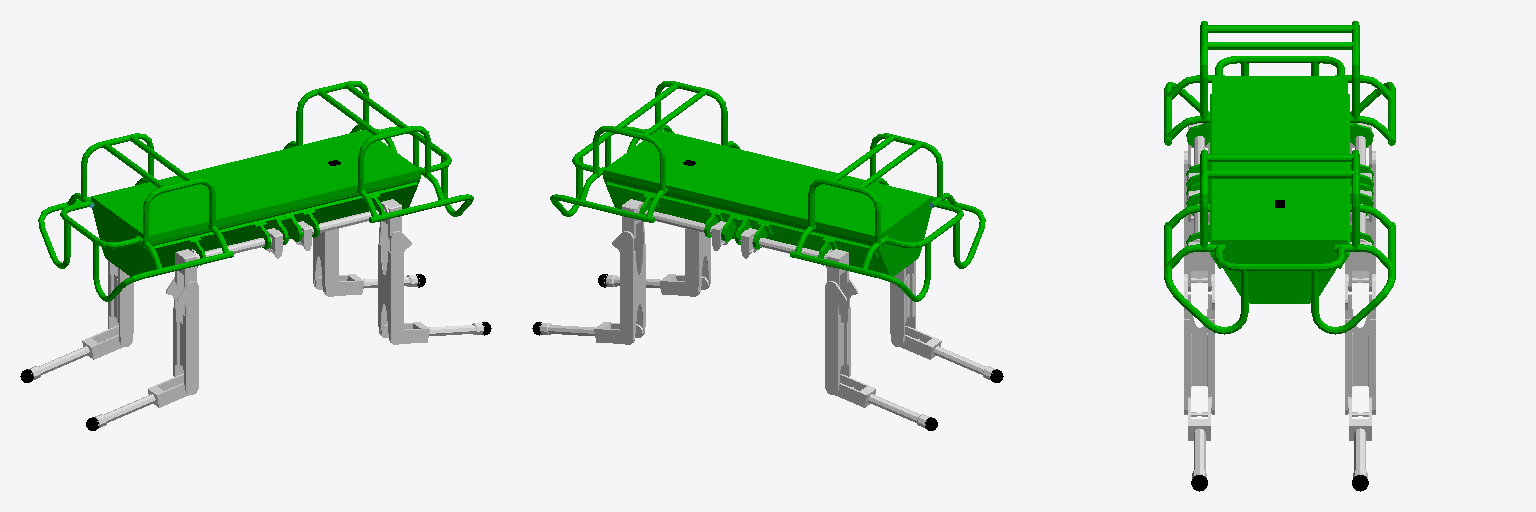
--- Facts derived from the render (not from the file) ---
Views: 3 orthographic renders of the robot side by side, from view 1: azimuth 30°, elevation 25°; view 2: azimuth 150°, elevation 25°; view 3: azimuth 270°, elevation 25°.
Robot: hyq — 19 links, 18 joints (12 revolute, 6 fixed); root link base_link; default pose: all joints at 0 but 4 set to mid-range because 0 is outside their limits (lf_kfe_joint = -1.4, rf_kfe_joint = -1.4, lh_kfe_joint = 1.4, rh_kfe_joint = 1.4).
Links seen in each view (by area): view 1: trunk, rf_upperleg, rh_upperleg, lh_upperleg, lf_upperleg, rh_hipassembly, rh_lowerleg, lh_lowerleg, rf_hipassembly, rf_lowerleg, lf_lowerleg; view 2: trunk, lf_upperleg, lh_upperleg, rh_upperleg, rf_upperleg, lh_hipassembly, lh_lowerleg, rh_lowerleg, lf_hipassembly, lf_lowerleg, rf_lowerleg; view 3: trunk, lf_upperleg, rf_upperleg, lf_lowerleg, rf_lowerleg, lf_hipassembly, rf_hipassembly.
Boxes of the visible links, box(x1,y1,x2,y2) form: trunk: box(38, 81, 473, 301); rf_upperleg: box(378, 227, 411, 344); rh_upperleg: box(166, 277, 198, 394); lh_upperleg: box(108, 261, 133, 346); lf_upperleg: box(313, 229, 338, 296); rh_hipassembly: box(175, 228, 283, 287); rh_lowerleg: box(94, 374, 188, 428); lh_lowerleg: box(28, 326, 122, 379); rf_hipassembly: box(296, 199, 401, 250); rf_lowerleg: box(380, 322, 484, 343); lf_lowerleg: box(315, 274, 419, 295); trunk: box(550, 81, 985, 301); lf_upperleg: box(612, 227, 645, 344); lh_upperleg: box(825, 277, 857, 394); rh_upperleg: box(890, 261, 915, 346); rf_upperleg: box(685, 229, 710, 296); lh_hipassembly: box(740, 228, 848, 287); lh_lowerleg: box(835, 374, 929, 428); rh_lowerleg: box(901, 326, 995, 379); lf_hipassembly: box(622, 199, 727, 250); lf_lowerleg: box(539, 322, 643, 343); rf_lowerleg: box(604, 274, 708, 295); trunk: box(1164, 21, 1395, 334); lf_upperleg: box(1345, 274, 1375, 414); rf_upperleg: box(1184, 274, 1214, 414); lf_lowerleg: box(1348, 397, 1371, 478); rf_lowerleg: box(1188, 397, 1211, 478); lf_hipassembly: box(1348, 190, 1371, 291); rf_hipassembly: box(1188, 190, 1211, 291).
Bounding box of the posed robot: 1.47 × 0.5954 × 0.7818 m (x, y, z).
Meshes: 4 distinct files referenced, 13 mesh visuals loaded (4 Collada DAE).

The robot description file, URDF, robot "hyq":
<?xml version="1.0" ?>
<!-- =================================================================================== -->
<!-- |    This document was autogenerated by xacro from hyq_no_sensors.urdf.xacro      | -->
<!-- |    EDITING THIS FILE BY HAND IS NOT RECOMMENDED                                 | -->
<!-- =================================================================================== -->
<robot name="hyq" xmlns:xacro="http://ros.org/wiki/xacro">
  <!-- This argument allows us to load joint sensors that measure the internal wrenches -->
  <!-- The following included files set up definitions of parts of the robot body -->
  <!-- kin limits (sign ref is RH leg)-->
  <!-- torque limits 120-->
  <!-- standard distances -->
  <!-- Inertial values -->
  <!-- Trunk with hydraulic system -->
  <!-- Hip assembly -->
  <!-- Upper leg -->
  <!-- Lower leg -->
  <!-- TODO checks the imu properties -->
  <!-- Microstrain kvh1775 IMU -->
  <!-- Microstrain 3dmgx425 IMU -->
  <!-- Microstrain 3dmgx325 IMU -->
  <!-- PTU unit -->
  <!-- Asus Xtion Camera Location (Nominally 0) -->
  <!-- Kinect Camera Location (Nominally 0) -->
  <!-- Bumblebee mass and lengths for computing inertia tensor -->
  <!-- Velodyne Lidar Location (Nominally 0) -->
  <!-- HighDef Camera Location (Nominally 0) -->
  <!-- HyQ trunk -->
  <!-- Things that are needed only for Gazebo (not the physical robot). These include sensor and controller plugin specifications -->
  <!-- ================================ Trunk ================================ -->
  <!-- The xacro macro xacro:hyq_base contains: base and trunk -->
  <!-- HyQ legs -->
  <!-- Things that are needed only for Gazebo (not the physical robot). These include sensor and controller plugin specifications -->
  <!-- ================================== Leg ================================== -->
  <!-- The xacro macro xacro:hyq_leg contains: hip assembly, upper and lower leg -->
  <!-- HyQ sensors -->
  <!-- ============================ IMU microstrain ============================== -->
  <!-- The xacro macro xacro:microstrain_3dmgx425_imu: imu frame -->
  <!-- generic simulator_gazebo plugins for starting mechanism control, ros time -->
  <gazebo>
    <plugin filename="libgazebo_ros_control.so" name="gazebo_ros_controller_manager">
      <robotNamespace>/hyq</robotNamespace>
      <!--			<robotSimType>dls_gazebo_interface/DLSHWSim</robotSimType>-->
      <controlPeriod>0.004</controlPeriod>
    </plugin>
    <plugin filename="libgazebo_ros_p3d.so" name="gazebo_ros_p3d">
      <robotNamespace>/hyq</robotNamespace>
      <bodyName>trunk</bodyName>
      <topicName>ground_truth</topicName>
      <frameName>world</frameName>
      <xyzOffsets>0 0 0</xyzOffsets>
      <rpyOffsets>0 0 0</rpyOffsets>
      <gaussianNoise>0</gaussianNoise>
      <alwaysOn>true</alwaysOn>
      <updateRate>250.0</updateRate>
    </plugin>
  </gazebo>
  <!-- Now we can start using the macros included above to define the actual HyQ -->
  <!-- The first use of a macro. This one was defined in trunk.urdf.xacro above.
A macro like this will expand to a set of link and joint definitions, and to additional
Gazebo-related extensions (sensor plugins, etc). The macro takes an argument, name,
that equals "base", and uses it to generate names for its component links and joints
(e.g., base_link). The included origin block is also an argument to the macro. By convention,
the origin block defines where the component is w.r.t its parent (in this case the parent
is the world frame). For more, see http://ros.org/wiki/xacro -->
  <!-- body -->
  <!-- trunk -->
  <!-- Floating-base Joint -->
  <joint name="floating_base" type="fixed">
    <origin rpy="0 0 0" xyz="0 0 0"/>
    <parent link="base_link"/>
    <child link="trunk"/>
  </joint>
  <!-- Links -->
  <!-- Footprint link -->
  <link name="base_link">
    <visual>
      <geometry>
        <cylinder length="0.01" radius="0.01"/>
      </geometry>
    </visual>
  </link>
  <!-- Trunk link -->
  <link name="trunk">
    <inertial>
      <origin xyz="0.056 0.0215 0.00358"/>
      <mass value="60.96"/>
      <inertia ixx="1.5725937" ixy="0.028375" ixz="-0.203139" iyy="8.5015928" iyz="-0.004462" izz="9.1954911"/>
    </inertial>
    <visual>
      <geometry>
        <mesh filename="package://hyq/meshes/trunk/trunk.dae" scale="1 1 1"/>
      </geometry>
    </visual>
    <collision>
      <geometry>
        <mesh filename="package://hyq/meshes/trunk/trunk.dae" scale="1 1 1"/>
      </geometry>
    </collision>
  </link>
  <!-- Extensions -->
  <gazebo reference="trunk">
    <mu1>1.5</mu1>
    <mu2>1.5</mu2>
  </gazebo>
  <!-- LF leg -->
  <!-- Joints -->
  <!-- Hip assembly joint -->
  <joint name="lf_haa_joint" type="revolute">
    <origin rpy="0 1.57079632679 3.14159265359" xyz="0.3735 0.207 0"/>
    <parent link="trunk"/>
    <child link="lf_hipassembly"/>
    <axis xyz="0 0 1"/>
    <limit effort="150" lower="-1.2217304764" upper="0.436332312999" velocity="12.0"/>
    <dynamics damping="0.1" friction="0"/>
    <safety_controller k_position="50" k_velocity="10" soft_lower_limit="-1.2217304764" soft_upper_limit="0.436332312999"/>
  </joint>
  <!-- Upper leg joint -->
  <joint name="lf_hfe_joint" type="revolute">
    <origin rpy="1.57079632679 0 0" xyz="0.08 0 0"/>
    <parent link="lf_hipassembly"/>
    <child link="lf_upperleg"/>
    <axis xyz="0 0 1"/>
    <limit effort="150" lower="-0.872664625997" upper="1.2217304764" velocity="12.0"/>
    <dynamics damping="0.1" friction="0"/>
    <safety_controller k_position="50" k_velocity="10" soft_lower_limit="-0.872664625997" soft_upper_limit="1.2217304764"/>
  </joint>
  <!-- Lower leg joint -->
  <joint name="lf_kfe_joint" type="revolute">
    <origin rpy="0 0 0" xyz="0.35 0 0"/>
    <parent link="lf_upperleg"/>
    <child link="lf_lowerleg"/>
    <axis xyz="0 0 1"/>
    <limit effort="150" lower="-2.44346095279" upper="-0.349065850399" velocity="12.0"/>
    <dynamics damping="0.1" friction="0"/>
    <safety_controller k_position="50" k_velocity="10" soft_lower_limit="-2.44346095279" soft_upper_limit="-0.349065850399"/>
    <!-- Foot joint -->
  </joint>
  <joint name="lf_foot_joint" type="fixed">
    <origin rpy="1.57079632679 0 -1.57079632679" xyz="0.346 0 0"/>
    <parent link="lf_lowerleg"/>
    <child link="lf_foot"/>
  </joint>
  <!-- Links -->
  <!-- Hip assembly link -->
  <link name="lf_hipassembly">
    <inertial>
      <origin xyz="0.04263         0.0         0.16931"/>
      <mass value="2.93"/>
      <inertia ixx="0.05071" ixy="-4e-05" ixz="-0.00159" iyy="0.05486" iyz="-5e-05" izz="0.00571"/>
    </inertial>
    <visual>
      <origin rpy="0.0 0 0" xyz="0 0 0"/>
      <geometry>
        <mesh filename="package://hyq/meshes/leg/hipassembly.dae" scale="1 1 1"/>
      </geometry>
    </visual>
    <collision>
      <origin rpy="0.0 0 0" xyz="0 0 0"/>
      <geometry>
        <mesh filename="package://hyq/meshes/leg/hipassembly.dae" scale="1 1 1"/>
      </geometry>
    </collision>
  </link>
  <!-- Upper leg link -->
  <link name="lf_upperleg">
    <inertial>
      <origin xyz="0.15074 -0.02625 0.0"/>
      <mass value="2.638"/>
      <inertia ixx="0.00368" ixy="-0.00302" ixz="0.0001" iyy="0.02719" iyz="2e-05" izz="0.02811"/>
    </inertial>
    <visual>
      <origin rpy="0.0 0 0" xyz="0 0 0"/>
      <geometry>
        <mesh filename="package://hyq/meshes/leg/upperleg.dae" scale="1 1 1"/>
      </geometry>
    </visual>
    <collision>
      <origin rpy="0.0 0 0" xyz="0 0 0"/>
      <geometry>
        <mesh filename="package://hyq/meshes/leg/upperleg.dae" scale="1 1 1"/>
      </geometry>
    </collision>
  </link>
  <!-- Lower leg link -->
  <link name="lf_lowerleg">
    <inertial>
      <origin xyz="0.1254 4e-05 -0.0001"/>
      <mass value="0.881"/>
      <inertia ixx="0.00047" ixy="6e-05" ixz="-1e-05" iyy="0.01256" iyz="-0.0" izz="0.01233"/>
    </inertial>
    <visual>
      <geometry>
        <mesh filename="package://hyq/meshes/leg/lowerleg.dae" scale="1 1 1"/>
      </geometry>
      <material name="white"/>
    </visual>
    <collision>
      <origin rpy="0 -1.57079632679  0" xyz="0.173 0 0"/>
      <geometry>
        <cylinder length="0.346" radius="0.02"/>
      </geometry>
    </collision>
  </link>
  <!-- Foot link -->
  <link name="lf_foot">
    <collision>
      <origin rpy="0 0 0" xyz="0 0 0"/>
      <geometry>
        <sphere radius="0.02175"/>
      </geometry>
    </collision>
    <visual>
      <geometry>
        <sphere radius="0.02175"/>
      </geometry>
      <material name="black"/>
    </visual>
  </link>
  <!-- Extensions -->
  <!-- Hip assembly -->
  <transmission name="lf_haa_trans">
    <type>transmission_interface/SimpleTransmission</type>
    <joint name="lf_haa_joint">
      <hardwareInterface>EffortJointInterface</hardwareInterface>
    </joint>
    <actuator name="lf_haa_motor">
      <hardwareInterface>EffortJointInterface</hardwareInterface>
      <mechanicalReduction>1</mechanicalReduction>
    </actuator>
  </transmission>
  <!-- Upper leg -->
  <transmission name="lf_hfe_trans">
    <type>transmission_interface/SimpleTransmission</type>
    <joint name="lf_hfe_joint">
      <hardwareInterface>EffortJointInterface</hardwareInterface>
    </joint>
    <actuator name="lf_hfe_motor">
      <hardwareInterface>EffortJointInterface</hardwareInterface>
      <mechanicalReduction>1</mechanicalReduction>
    </actuator>
  </transmission>
  <!-- Lower leg -->
  <transmission name="lf_kfe_trans">
    <type>transmission_interface/SimpleTransmission</type>
    <joint name="lf_kfe_joint">
      <hardwareInterface>EffortJointInterface</hardwareInterface>
    </joint>
    <actuator name="lf_kfe_motor">
      <hardwareInterface>EffortJointInterface</hardwareInterface>
      <mechanicalReduction>1</mechanicalReduction>
    </actuator>
  </transmission>
  <gazebo reference="lf_haa_joint">
    <provideFeedback>true</provideFeedback>
  </gazebo>
  <gazebo reference="lf_kfe_joint">
    <provideFeedback>true</provideFeedback>
  </gazebo>
  <gazebo reference="lf_hfe_joint">
    <provideFeedback>true</provideFeedback>
  </gazebo>
  <gazebo reference="lf_upperleg">
    <kp>1000000.0</kp>
    <kd>100.0</kd>
    <mu1>1.5</mu1>
    <mu2>1.5</mu2>
    <fdir1>1 0 0</fdir1>
    <maxVel>1.0</maxVel>
    <minDepth>0.00</minDepth>
  </gazebo>
  <gazebo reference="lf_lowerleg">
    <kp>1000000.0</kp>
    <kd>100.0</kd>
    <mu1>1.0</mu1>
    <mu2>1.0</mu2>
    <maxVel>1.0</maxVel>
    <maxContacts>1</maxContacts>
    <sensor name="lf_shin_contact_sensor" type="contact">
      <always_on>true</always_on>
      <update_rate>250.0</update_rate>
      <contact>
        <collision>lf_lowerleg_collision</collision>
      </contact>
      <plugin filename="libgazebo_ros_bumper.so" name="lf_shin_bumper">
        <bumperTopicName>/hyq/lf_shin_bumper</bumperTopicName>
        <frameName>base_link</frameName>
      </plugin>
    </sensor>
  </gazebo>
  <gazebo reference="lf_foot">
    <kp>1000000.0</kp>
    <kd>100.0</kd>
    <mu1>1.0</mu1>
    <mu2>1.0</mu2>
    <maxVel>1.0</maxVel>
    <maxContacts>1</maxContacts>
    <sensor name="lf_foot_contact_sensor" type="contact">
      <always_on>true</always_on>
      <update_rate>250.0</update_rate>
      <contact>
        <collision>lf_lowerleg_fixed_joint_lump__lf_foot_collision_1</collision>
      </contact>
      <plugin filename="libgazebo_ros_bumper.so" name="lf_foot_bumper">
        <bumperTopicName>/hyq/lf_foot_bumper</bumperTopicName>
        <frameName>base_link</frameName>
        <robotNamespace>hyq</robotNamespace>
      </plugin>
    </sensor>
    <material>Gazebo/Black</material>
  </gazebo>
  <!-- RF leg -->
  <!-- Joints -->
  <!-- Hip assembly joint -->
  <joint name="rf_haa_joint" type="revolute">
    <origin rpy="0 1.57079632679 0" xyz="0.3735 -0.207 0"/>
    <parent link="trunk"/>
    <child link="rf_hipassembly"/>
    <axis xyz="0 0 1"/>
    <limit effort="150" lower="-1.2217304764" upper="0.436332312999" velocity="12.0"/>
    <dynamics damping="0.1" friction="0"/>
    <safety_controller k_position="50" k_velocity="10" soft_lower_limit="-1.2217304764" soft_upper_limit="0.436332312999"/>
  </joint>
  <!-- Upper leg joint -->
  <joint name="rf_hfe_joint" type="revolute">
    <origin rpy="-1.57079632679 0 0" xyz="0.08 0 0"/>
    <parent link="rf_hipassembly"/>
    <child link="rf_upperleg"/>
    <axis xyz="0 0 1"/>
    <limit effort="150" lower="-0.872664625997" upper="1.2217304764" velocity="12.0"/>
    <dynamics damping="0.1" friction="0"/>
    <safety_controller k_position="50" k_velocity="10" soft_lower_limit="-0.872664625997" soft_upper_limit="1.2217304764"/>
  </joint>
  <!-- Lower leg joint -->
  <joint name="rf_kfe_joint" type="revolute">
    <origin rpy="0 0 0" xyz="0.35 0 0"/>
    <parent link="rf_upperleg"/>
    <child link="rf_lowerleg"/>
    <axis xyz="0 0 1"/>
    <limit effort="150" lower="-2.44346095279" upper="-0.349065850399" velocity="12.0"/>
    <dynamics damping="0.1" friction="0"/>
    <safety_controller k_position="50" k_velocity="10" soft_lower_limit="-2.44346095279" soft_upper_limit="-0.349065850399"/>
    <!-- Foot joint -->
  </joint>
  <joint name="rf_foot_joint" type="fixed">
    <origin rpy="1.57079632679 0 -1.57079632679" xyz="0.346 0 0"/>
    <parent link="rf_lowerleg"/>
    <child link="rf_foot"/>
  </joint>
  <!-- Links -->
  <!-- Hip assembly link -->
  <link name="rf_hipassembly">
    <inertial>
      <origin xyz="0.04263         -0.0         -0.16931"/>
      <mass value="2.93"/>
      <inertia ixx="0.05071" ixy="4e-05" ixz="0.00159" iyy="0.05486" iyz="-5e-05" izz="0.00571"/>
    </inertial>
    <visual>
      <origin rpy="3.14159265359 0 0" xyz="0 0 0"/>
      <geometry>
        <mesh filename="package://hyq/meshes/leg/hipassembly.dae" scale="1 1 1"/>
      </geometry>
    </visual>
    <collision>
      <origin rpy="3.14159265359 0 0" xyz="0 0 0"/>
      <geometry>
        <mesh filename="package://hyq/meshes/leg/hipassembly.dae" scale="1 1 1"/>
      </geometry>
    </collision>
  </link>
  <!-- Upper leg link -->
  <link name="rf_upperleg">
    <inertial>
      <origin xyz="0.15074 -0.02625 0.0"/>
      <mass value="2.638"/>
      <inertia ixx="0.00368" ixy="-0.00302" ixz="0.0001" iyy="0.02719" iyz="2e-05" izz="0.02811"/>
    </inertial>
    <visual>
      <origin rpy="0.0 0 0" xyz="0 0 0"/>
      <geometry>
        <mesh filename="package://hyq/meshes/leg/upperleg.dae" scale="1 1 1"/>
      </geometry>
    </visual>
    <collision>
      <origin rpy="0.0 0 0" xyz="0 0 0"/>
      <geometry>
        <mesh filename="package://hyq/meshes/leg/upperleg.dae" scale="1 1 1"/>
      </geometry>
    </collision>
  </link>
  <!-- Lower leg link -->
  <link name="rf_lowerleg">
    <inertial>
      <origin xyz="0.1254 4e-05 -0.0001"/>
      <mass value="0.881"/>
      <inertia ixx="0.00047" ixy="6e-05" ixz="-1e-05" iyy="0.01256" iyz="-0.0" izz="0.01233"/>
    </inertial>
    <visual>
      <geometry>
        <mesh filename="package://hyq/meshes/leg/lowerleg.dae" scale="1 1 1"/>
      </geometry>
      <material name="white"/>
    </visual>
    <collision>
      <origin rpy="0 -1.57079632679  0" xyz="0.173 0 0"/>
      <geometry>
        <cylinder length="0.346" radius="0.02"/>
      </geometry>
    </collision>
  </link>
  <!-- Foot link -->
  <link name="rf_foot">
    <collision>
      <origin rpy="0 0 0" xyz="0 0 0"/>
      <geometry>
        <sphere radius="0.02175"/>
      </geometry>
    </collision>
    <visual>
      <geometry>
        <sphere radius="0.02175"/>
      </geometry>
      <material name="black"/>
    </visual>
  </link>
  <!-- Extensions -->
  <!-- Hip assembly -->
  <transmission name="rf_haa_trans">
    <type>transmission_interface/SimpleTransmission</type>
    <joint name="rf_haa_joint">
      <hardwareInterface>EffortJointInterface</hardwareInterface>
    </joint>
    <actuator name="rf_haa_motor">
      <hardwareInterface>EffortJointInterface</hardwareInterface>
      <mechanicalReduction>1</mechanicalReduction>
    </actuator>
  </transmission>
  <!-- Upper leg -->
  <transmission name="rf_hfe_trans">
    <type>transmission_interface/SimpleTransmission</type>
    <joint name="rf_hfe_joint">
      <hardwareInterface>EffortJointInterface</hardwareInterface>
    </joint>
    <actuator name="rf_hfe_motor">
      <hardwareInterface>EffortJointInterface</hardwareInterface>
      <mechanicalReduction>1</mechanicalReduction>
    </actuator>
  </transmission>
  <!-- Lower leg -->
  <transmission name="rf_kfe_trans">
    <type>transmission_interface/SimpleTransmission</type>
    <joint name="rf_kfe_joint">
      <hardwareInterface>EffortJointInterface</hardwareInterface>
    </joint>
    <actuator name="rf_kfe_motor">
      <hardwareInterface>EffortJointInterface</hardwareInterface>
      <mechanicalReduction>1</mechanicalReduction>
    </actuator>
  </transmission>
  <gazebo reference="rf_haa_joint">
    <provideFeedback>true</provideFeedback>
  </gazebo>
  <gazebo reference="rf_kfe_joint">
    <provideFeedback>true</provideFeedback>
  </gazebo>
  <gazebo reference="rf_hfe_joint">
    <provideFeedback>true</provideFeedback>
  </gazebo>
  <gazebo reference="rf_upperleg">
    <kp>1000000.0</kp>
    <kd>100.0</kd>
    <mu1>1.5</mu1>
    <mu2>1.5</mu2>
    <fdir1>1 0 0</fdir1>
    <maxVel>1.0</maxVel>
    <minDepth>0.00</minDepth>
  </gazebo>
  <gazebo reference="rf_lowerleg">
    <kp>1000000.0</kp>
    <kd>100.0</kd>
    <mu1>1.0</mu1>
    <mu2>1.0</mu2>
    <maxVel>1.0</maxVel>
    <maxContacts>1</maxContacts>
    <sensor name="rf_shin_contact_sensor" type="contact">
      <always_on>true</always_on>
      <update_rate>250.0</update_rate>
      <contact>
        <collision>rf_lowerleg_collision</collision>
      </contact>
      <plugin filename="libgazebo_ros_bumper.so" name="rf_shin_bumper">
        <bumperTopicName>/hyq/rf_shin_bumper</bumperTopicName>
        <frameName>base_link</frameName>
      </plugin>
    </sensor>
  </gazebo>
  <gazebo reference="rf_foot">
    <kp>1000000.0</kp>
    <kd>100.0</kd>
    <mu1>1.0</mu1>
    <mu2>1.0</mu2>
    <maxVel>1.0</maxVel>
    <maxContacts>1</maxContacts>
    <sensor name="rf_foot_contact_sensor" type="contact">
      <always_on>true</always_on>
      <update_rate>250.0</update_rate>
      <contact>
        <collision>rf_lowerleg_fixed_joint_lump__rf_foot_collision_1</collision>
      </contact>
      <plugin filename="libgazebo_ros_bumper.so" name="rf_foot_bumper">
        <bumperTopicName>/hyq/rf_foot_bumper</bumperTopicName>
        <frameName>base_link</frameName>
        <robotNamespace>hyq</robotNamespace>
      </plugin>
    </sensor>
    <material>Gazebo/Black</material>
  </gazebo>
  <!-- LH leg -->
  <!-- Joints -->
  <!-- Hip assembly joint -->
  <joint name="lh_haa_joint" type="revolute">
    <origin rpy="0 1.57079632679 3.14159265359" xyz="-0.3735 0.207 0"/>
    <parent link="trunk"/>
    <child link="lh_hipassembly"/>
    <axis xyz="0 0 1"/>
    <limit effort="150" lower="-1.2217304764" upper="0.436332312999" velocity="12.0"/>
    <dynamics damping="0.1" friction="0"/>
    <safety_controller k_position="50" k_velocity="10" soft_lower_limit="-1.2217304764" soft_upper_limit="0.436332312999"/>
  </joint>
  <!-- Upper leg joint -->
  <joint name="lh_hfe_joint" type="revolute">
    <origin rpy="1.57079632679 0 0" xyz="0.08 0 0"/>
    <parent link="lh_hipassembly"/>
    <child link="lh_upperleg"/>
    <axis xyz="0 0 1"/>
    <limit effort="150" lower="-1.2217304764" upper="0.872664625997" velocity="12.0"/>
    <dynamics damping="0.1" friction="0"/>
    <safety_controller k_position="50" k_velocity="10" soft_lower_limit="-1.2217304764" soft_upper_limit="0.872664625997"/>
  </joint>
  <!-- Lower leg joint -->
  <joint name="lh_kfe_joint" type="revolute">
    <origin rpy="0 0 0" xyz="0.35 0 0"/>
    <parent link="lh_upperleg"/>
    <child link="lh_lowerleg"/>
    <axis xyz="0 0 1"/>
    <limit effort="150" lower="0.349065850399" upper="2.44346095279" velocity="12.0"/>
    <dynamics damping="0.1" friction="0"/>
    <safety_controller k_position="50" k_velocity="10" soft_lower_limit="0.349065850399" soft_upper_limit="2.44346095279"/>
    <!-- Foot joint -->
  </joint>
  <joint name="lh_foot_joint" type="fixed">
    <origin rpy="1.57079632679 0 -1.57079632679" xyz="0.346 0 0"/>
    <parent link="lh_lowerleg"/>
    <child link="lh_foot"/>
  </joint>
  <!-- Links -->
  <!-- Hip assembly link -->
  <link name="lh_hipassembly">
    <inertial>
      <origin xyz="0.04263         -0.0         -0.16931"/>
      <mass value="2.93"/>
      <inertia ixx="0.05071" ixy="4e-05" ixz="0.00159" iyy="0.05486" iyz="-5e-05" izz="0.00571"/>
    </inertial>
    <visual>
      <origin rpy="3.14159265359 0 0" xyz="0 0 0"/>
      <geometry>
        <mesh filename="package://hyq/meshes/leg/hipassembly.dae" scale="1 1 1"/>
      </geometry>
    </visual>
    <collision>
      <origin rpy="3.14159265359 0 0" xyz="0 0 0"/>
      <geometry>
        <mesh filename="package://hyq/meshes/leg/hipassembly.dae" scale="1 1 1"/>
      </geometry>
    </collision>
  </link>
  <!-- Upper leg link -->
  <link name="lh_upperleg">
    <inertial>
      <origin xyz="0.15074 0.02625 0.0"/>
      <mass value="2.638"/>
      <inertia ixx="0.00368" ixy="0.00302" ixz="-0.0001" iyy="0.02719" iyz="2e-05" izz="0.02811"/>
    </inertial>
    <visual>
      <origin rpy="3.14159265359 0 0" xyz="0 0 0"/>
      <geometry>
        <mesh filename="package://hyq/meshes/leg/upperleg.dae" scale="1 1 1"/>
      </geometry>
    </visual>
    <collision>
      <origin rpy="3.14159265359 0 0" xyz="0 0 0"/>
      <geometry>
        <mesh filename="package://hyq/meshes/leg/upperleg.dae" scale="1 1 1"/>
      </geometry>
    </collision>
  </link>
  <!-- Lower leg link -->
  <link name="lh_lowerleg">
    <inertial>
      <origin xyz="0.1254 -4e-05 0.0001"/>
      <mass value="0.881"/>
      <inertia ixx="0.00047" ixy="-6e-05" ixz="1e-05" iyy="0.01256" iyz="-0.0" izz="0.01233"/>
    </inertial>
    <visual>
      <geometry>
        <mesh filename="package://hyq/meshes/leg/lowerleg.dae" scale="1 1 1"/>
      </geometry>
      <material name="white"/>
    </visual>
    <collision>
      <origin rpy="0 -1.57079632679  0" xyz="0.173 0 0"/>
      <geometry>
        <cylinder length="0.346" radius="0.02"/>
      </geometry>
    </collision>
  </link>
  <!-- Foot link -->
  <link name="lh_foot">
    <collision>
      <origin rpy="0 0 0" xyz="0 0 0"/>
      <geometry>
        <sphere radius="0.02175"/>
      </geometry>
    </collision>
    <visual>
      <geometry>
        <sphere radius="0.02175"/>
      </geometry>
      <material name="black"/>
    </visual>
  </link>
  <!-- Extensions -->
  <!-- Hip assembly -->
  <transmission name="lh_haa_trans">
    <type>transmission_interface/SimpleTransmission</type>
    <joint name="lh_haa_joint">
      <hardwareInterface>EffortJointInterface</hardwareInterface>
    </joint>
    <actuator name="lh_haa_motor">
      <hardwareInterface>EffortJointInterface</hardwareInterface>
      <mechanicalReduction>1</mechanicalReduction>
    </actuator>
  </transmission>
  <!-- Upper leg -->
  <transmission name="lh_hfe_trans">
    <type>transmission_interface/SimpleTransmission</type>
    <joint name="lh_hfe_joint">
      <hardwareInterface>EffortJointInterface</hardwareInterface>
    </joint>
    <actuator name="lh_hfe_motor">
      <hardwareInterface>EffortJointInterface</hardwareInterface>
      <mechanicalReduction>1</mechanicalReduction>
    </actuator>
  </transmission>
  <!-- Lower leg -->
  <transmission name="lh_kfe_trans">
    <type>transmission_interface/SimpleTransmission</type>
    <joint name="lh_kfe_joint">
      <hardwareInterface>EffortJointInterface</hardwareInterface>
    </joint>
    <actuator name="lh_kfe_motor">
      <hardwareInterface>EffortJointInterface</hardwareInterface>
      <mechanicalReduction>1</mechanicalReduction>
    </actuator>
  </transmission>
  <gazebo reference="lh_haa_joint">
    <provideFeedback>true</provideFeedback>
  </gazebo>
  <gazebo reference="lh_kfe_joint">
    <provideFeedback>true</provideFeedback>
  </gazebo>
  <gazebo reference="lh_hfe_joint">
    <provideFeedback>true</provideFeedback>
  </gazebo>
  <gazebo reference="lh_upperleg">
    <kp>1000000.0</kp>
    <kd>100.0</kd>
    <mu1>1.5</mu1>
    <mu2>1.5</mu2>
    <fdir1>1 0 0</fdir1>
    <maxVel>1.0</maxVel>
    <minDepth>0.00</minDepth>
  </gazebo>
  <gazebo reference="lh_lowerleg">
    <kp>1000000.0</kp>
    <kd>100.0</kd>
    <mu1>1.0</mu1>
    <mu2>1.0</mu2>
    <maxVel>1.0</maxVel>
    <maxContacts>1</maxContacts>
    <sensor name="lh_shin_contact_sensor" type="contact">
      <always_on>true</always_on>
      <update_rate>250.0</update_rate>
      <contact>
        <collision>lh_lowerleg_collision</collision>
      </contact>
      <plugin filename="libgazebo_ros_bumper.so" name="lh_shin_bumper">
        <bumperTopicName>/hyq/lh_shin_bumper</bumperTopicName>
        <frameName>base_link</frameName>
      </plugin>
    </sensor>
  </gazebo>
  <gazebo reference="lh_foot">
    <kp>1000000.0</kp>
    <kd>100.0</kd>
    <mu1>1.0</mu1>
    <mu2>1.0</mu2>
    <maxVel>1.0</maxVel>
    <maxContacts>1</maxContacts>
    <sensor name="lh_foot_contact_sensor" type="contact">
      <always_on>true</always_on>
      <update_rate>250.0</update_rate>
      <contact>
        <collision>lh_lowerleg_fixed_joint_lump__lh_foot_collision_1</collision>
      </contact>
      <plugin filename="libgazebo_ros_bumper.so" name="lh_foot_bumper">
        <bumperTopicName>/hyq/lh_foot_bumper</bumperTopicName>
        <frameName>base_link</frameName>
        <robotNamespace>hyq</robotNamespace>
      </plugin>
    </sensor>
    <material>Gazebo/Black</material>
  </gazebo>
  <!-- RH leg -->
  <!-- Joints -->
  <!-- Hip assembly joint -->
  <joint name="rh_haa_joint" type="revolute">
    <origin rpy="0 1.57079632679 0" xyz="-0.3735 -0.207 0"/>
    <parent link="trunk"/>
    <child link="rh_hipassembly"/>
    <axis xyz="0 0 1"/>
    <limit effort="150" lower="-1.2217304764" upper="0.436332312999" velocity="12.0"/>
    <dynamics damping="0.1" friction="0"/>
    <safety_controller k_position="50" k_velocity="10" soft_lower_limit="-1.2217304764" soft_upper_limit="0.436332312999"/>
  </joint>
  <!-- Upper leg joint -->
  <joint name="rh_hfe_joint" type="revolute">
    <origin rpy="-1.57079632679 0 0" xyz="0.08 0 0"/>
    <parent link="rh_hipassembly"/>
    <child link="rh_upperleg"/>
    <axis xyz="0 0 1"/>
    <limit effort="150" lower="-1.2217304764" upper="0.872664625997" velocity="12.0"/>
    <dynamics damping="0.1" friction="0"/>
    <safety_controller k_position="50" k_velocity="10" soft_lower_limit="-1.2217304764" soft_upper_limit="0.872664625997"/>
  </joint>
  <!-- Lower leg joint -->
  <joint name="rh_kfe_joint" type="revolute">
    <origin rpy="0 0 0" xyz="0.35 0 0"/>
    <parent link="rh_upperleg"/>
    <child link="rh_lowerleg"/>
    <axis xyz="0 0 1"/>
    <limit effort="150" lower="0.349065850399" upper="2.44346095279" velocity="12.0"/>
    <dynamics damping="0.1" friction="0"/>
    <safety_controller k_position="50" k_velocity="10" soft_lower_limit="0.349065850399" soft_upper_limit="2.44346095279"/>
    <!-- Foot joint -->
  </joint>
  <joint name="rh_foot_joint" type="fixed">
    <origin rpy="1.57079632679 0 -1.57079632679" xyz="0.346 0 0"/>
    <parent link="rh_lowerleg"/>
    <child link="rh_foot"/>
  </joint>
  <!-- Links -->
  <!-- Hip assembly link -->
  <link name="rh_hipassembly">
    <inertial>
      <origin xyz="0.04263         0.0         0.16931"/>
      <mass value="2.93"/>
      <inertia ixx="0.05071" ixy="-4e-05" ixz="-0.00159" iyy="0.05486" iyz="-5e-05" izz="0.00571"/>
    </inertial>
    <visual>
      <origin rpy="0.0 0 0" xyz="0 0 0"/>
      <geometry>
        <mesh filename="package://hyq/meshes/leg/hipassembly.dae" scale="1 1 1"/>
      </geometry>
    </visual>
    <collision>
      <origin rpy="0.0 0 0" xyz="0 0 0"/>
      <geometry>
        <mesh filename="package://hyq/meshes/leg/hipassembly.dae" scale="1 1 1"/>
      </geometry>
    </collision>
  </link>
  <!-- Upper leg link -->
  <link name="rh_upperleg">
    <inertial>
      <origin xyz="0.15074 0.02625 0.0"/>
      <mass value="2.638"/>
      <inertia ixx="0.00368" ixy="0.00302" ixz="-0.0001" iyy="0.02719" iyz="2e-05" izz="0.02811"/>
    </inertial>
    <visual>
      <origin rpy="3.14159265359 0 0" xyz="0 0 0"/>
      <geometry>
        <mesh filename="package://hyq/meshes/leg/upperleg.dae" scale="1 1 1"/>
      </geometry>
    </visual>
    <collision>
      <origin rpy="3.14159265359 0 0" xyz="0 0 0"/>
      <geometry>
        <mesh filename="package://hyq/meshes/leg/upperleg.dae" scale="1 1 1"/>
      </geometry>
    </collision>
  </link>
  <!-- Lower leg link -->
  <link name="rh_lowerleg">
    <inertial>
      <origin xyz="0.1254 -4e-05 0.0001"/>
      <mass value="0.881"/>
      <inertia ixx="0.00047" ixy="-6e-05" ixz="1e-05" iyy="0.01256" iyz="-0.0" izz="0.01233"/>
    </inertial>
    <visual>
      <geometry>
        <mesh filename="package://hyq/meshes/leg/lowerleg.dae" scale="1 1 1"/>
      </geometry>
      <material name="white"/>
    </visual>
    <collision>
      <origin rpy="0 -1.57079632679  0" xyz="0.173 0 0"/>
      <geometry>
        <cylinder length="0.346" radius="0.02"/>
      </geometry>
    </collision>
  </link>
  <!-- Foot link -->
  <link name="rh_foot">
    <collision>
      <origin rpy="0 0 0" xyz="0 0 0"/>
      <geometry>
        <sphere radius="0.02175"/>
      </geometry>
    </collision>
    <visual>
      <geometry>
        <sphere radius="0.02175"/>
      </geometry>
      <material name="black"/>
    </visual>
  </link>
  <!-- Extensions -->
  <!-- Hip assembly -->
  <transmission name="rh_haa_trans">
    <type>transmission_interface/SimpleTransmission</type>
    <joint name="rh_haa_joint">
      <hardwareInterface>EffortJointInterface</hardwareInterface>
    </joint>
    <actuator name="rh_haa_motor">
      <hardwareInterface>EffortJointInterface</hardwareInterface>
      <mechanicalReduction>1</mechanicalReduction>
    </actuator>
  </transmission>
  <!-- Upper leg -->
  <transmission name="rh_hfe_trans">
    <type>transmission_interface/SimpleTransmission</type>
    <joint name="rh_hfe_joint">
      <hardwareInterface>EffortJointInterface</hardwareInterface>
    </joint>
    <actuator name="rh_hfe_motor">
      <hardwareInterface>EffortJointInterface</hardwareInterface>
      <mechanicalReduction>1</mechanicalReduction>
    </actuator>
  </transmission>
  <!-- Lower leg -->
  <transmission name="rh_kfe_trans">
    <type>transmission_interface/SimpleTransmission</type>
    <joint name="rh_kfe_joint">
      <hardwareInterface>EffortJointInterface</hardwareInterface>
    </joint>
    <actuator name="rh_kfe_motor">
      <hardwareInterface>EffortJointInterface</hardwareInterface>
      <mechanicalReduction>1</mechanicalReduction>
    </actuator>
  </transmission>
  <gazebo reference="rh_haa_joint">
    <provideFeedback>true</provideFeedback>
  </gazebo>
  <gazebo reference="rh_kfe_joint">
    <provideFeedback>true</provideFeedback>
  </gazebo>
  <gazebo reference="rh_hfe_joint">
    <provideFeedback>true</provideFeedback>
  </gazebo>
  <gazebo reference="rh_upperleg">
    <kp>1000000.0</kp>
    <kd>100.0</kd>
    <mu1>1.5</mu1>
    <mu2>1.5</mu2>
    <fdir1>1 0 0</fdir1>
    <maxVel>1.0</maxVel>
    <minDepth>0.00</minDepth>
  </gazebo>
  <gazebo reference="rh_lowerleg">
    <kp>1000000.0</kp>
    <kd>100.0</kd>
    <mu1>1.0</mu1>
    <mu2>1.0</mu2>
    <maxVel>1.0</maxVel>
    <maxContacts>1</maxContacts>
    <sensor name="rh_shin_contact_sensor" type="contact">
      <always_on>true</always_on>
      <update_rate>250.0</update_rate>
      <contact>
        <collision>rh_lowerleg_collision</collision>
      </contact>
      <plugin filename="libgazebo_ros_bumper.so" name="rh_shin_bumper">
        <bumperTopicName>/hyq/rh_shin_bumper</bumperTopicName>
        <frameName>base_link</frameName>
      </plugin>
    </sensor>
  </gazebo>
  <gazebo reference="rh_foot">
    <kp>1000000.0</kp>
    <kd>100.0</kd>
    <mu1>1.0</mu1>
    <mu2>1.0</mu2>
    <maxVel>1.0</maxVel>
    <maxContacts>1</maxContacts>
    <sensor name="rh_foot_contact_sensor" type="contact">
      <always_on>true</always_on>
      <update_rate>250.0</update_rate>
      <contact>
        <collision>rh_lowerleg_fixed_joint_lump__rh_foot_collision_1</collision>
      </contact>
      <plugin filename="libgazebo_ros_bumper.so" name="rh_foot_bumper">
        <bumperTopicName>/hyq/rh_foot_bumper</bumperTopicName>
        <frameName>base_link</frameName>
        <robotNamespace>hyq</robotNamespace>
      </plugin>
    </sensor>
    <material>Gazebo/Black</material>
  </gazebo>
  <!-- IMU trunk -->
  <!-- Joint -->
  <joint name="trunk_imu_joint" type="fixed">
    <origin rpy="0 -3.14159265359 0" xyz="0.290 0.000 0.0999214"/>
    <parent link="trunk"/>
    <child link="trunk_imu"/>
  </joint>
  <!-- Link -->
  <link name="trunk_imu">
    <inertial>
      <origin xyz="-0.00020  0.00010  0.00110"/>
      <mass value="0.018"/>
      <inertia ixx="0.0" ixy="0.0" ixz="0.0" iyy="0.0" iyz="0.0" izz="0.0"/>
    </inertial>
    <visual>
      <origin rpy="0 0 0" xyz="0.00485 0 -0.00105"/>
      <geometry>
        <box size="0.0329 0.0244 0.0111"/>
      </geometry>
      <material name="black">
        <color rgba="0 0 0 0.9"/>
      </material>
    </visual>
  </link>
  <!-- IMU Gazebo plugin definition -->
  <gazebo>
    <plugin filename="libgazebo_ros_imu.so" name="trunk_imu_controller">
      <alwaysOn>true</alwaysOn>
      <updateRate>250</updateRate>
      <bodyName>trunk_imu</bodyName>
      <topicName>trunk_imu/data</topicName>
      <gaussianNoise>4e-08</gaussianNoise>
      <xyzOffset>0 0 0</xyzOffset>
      <rpyOffset>0 0 0</rpyOffset>
      <serviceName>/trunk_imu_imu</serviceName>
    </plugin>
  </gazebo>
  <!-- Imu definition required for DLS hardware interface of ros control -->
  <gazebo reference="trunk_imu">
    <sensor name="trunk_imu" type="imu">
      <always_on>1</always_on>
      <update_rate>250</update_rate>
      <imu>
        <noise>
          <type>gaussian</type>
          <rate>
            <mean>0</mean>
            <stddev>0.0002</stddev>
            <bias_mean>0.00087</bias_mean>
            <bias_stddev>8e-07</bias_stddev>
          </rate>
          <accel>
            <mean>0</mean>
            <stddev>0.017</stddev>
            <bias_mean>0.002</bias_mean>
            <bias_stddev>0.001</bias_stddev>
          </accel>
        </noise>
      </imu>
    </sensor>
  </gazebo>
</robot>
